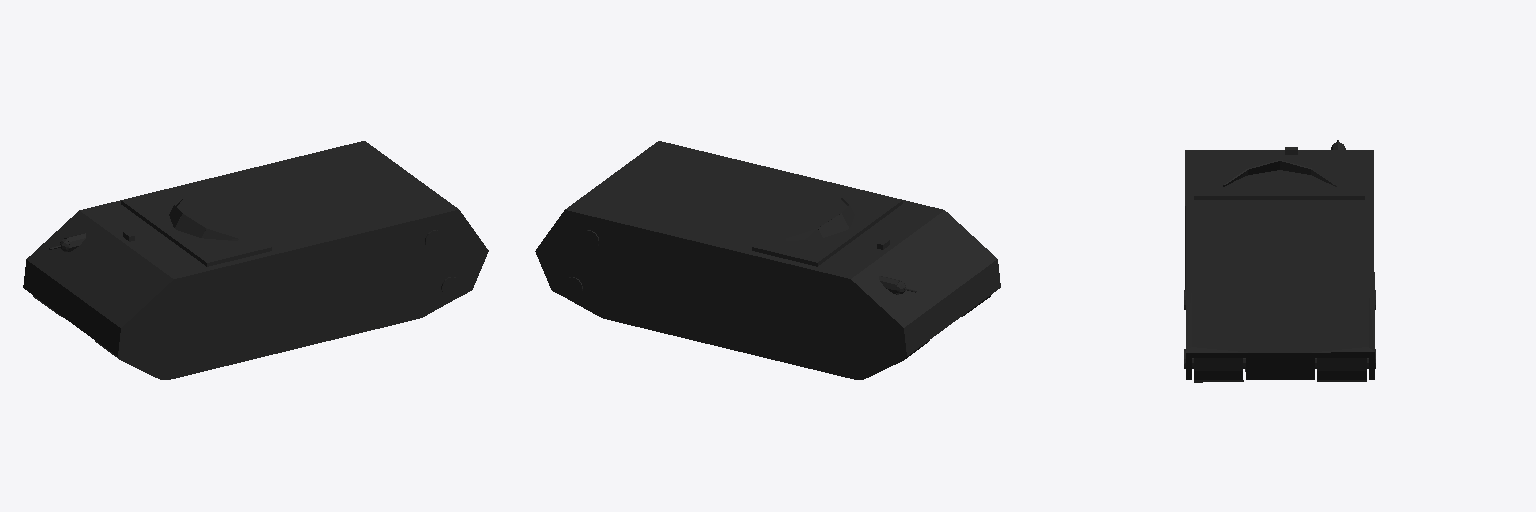
File: enemytankbody06.obj
3 renders of one model, left to right at view 1: azimuth 30°, elevation 25°; view 2: azimuth 150°, elevation 25°; view 3: azimuth 270°, elevation 25°, orthographic.
Visible parts, largest first — view 1: Box054, Box063, Box055; view 2: Box054, Box063, Box056; view 3: Box054, Box063, Box056, Box055.
Boxes of the visible parts, x1=… form: Box054: x1=23, y1=141, x2=488, y2=369; Box063: x1=121, y1=185, x2=271, y2=266; Box055: x1=95, y1=301, x2=451, y2=379; Box054: x1=535, y1=141, x2=1000, y2=369; Box063: x1=752, y1=184, x2=902, y2=266; Box056: x1=568, y1=299, x2=929, y2=379; Box054: x1=1185, y1=150, x2=1374, y2=379; Box063: x1=1194, y1=164, x2=1364, y2=199; Box056: x1=1317, y1=358, x2=1366, y2=381; Box055: x1=1194, y1=358, x2=1243, y2=382.
Size of the model in its own units: 125 by 39.01 by 56.02.